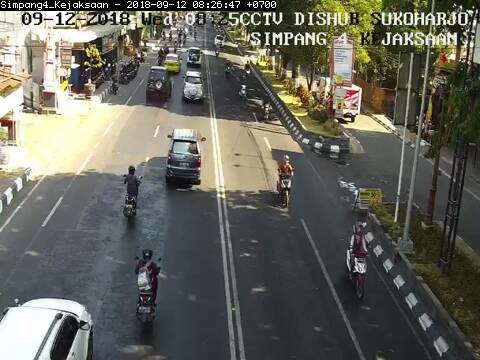motor: (343, 220, 371, 304), (272, 153, 298, 210)
